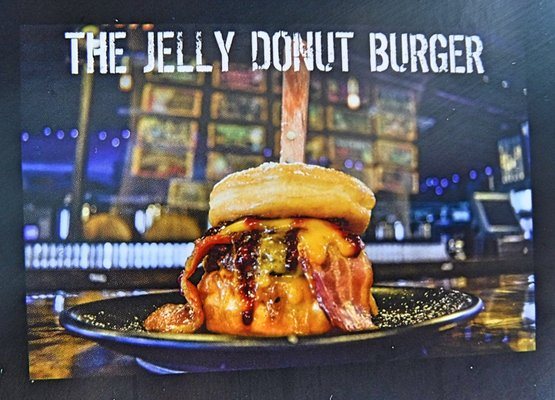soup: (180, 161, 379, 337)
